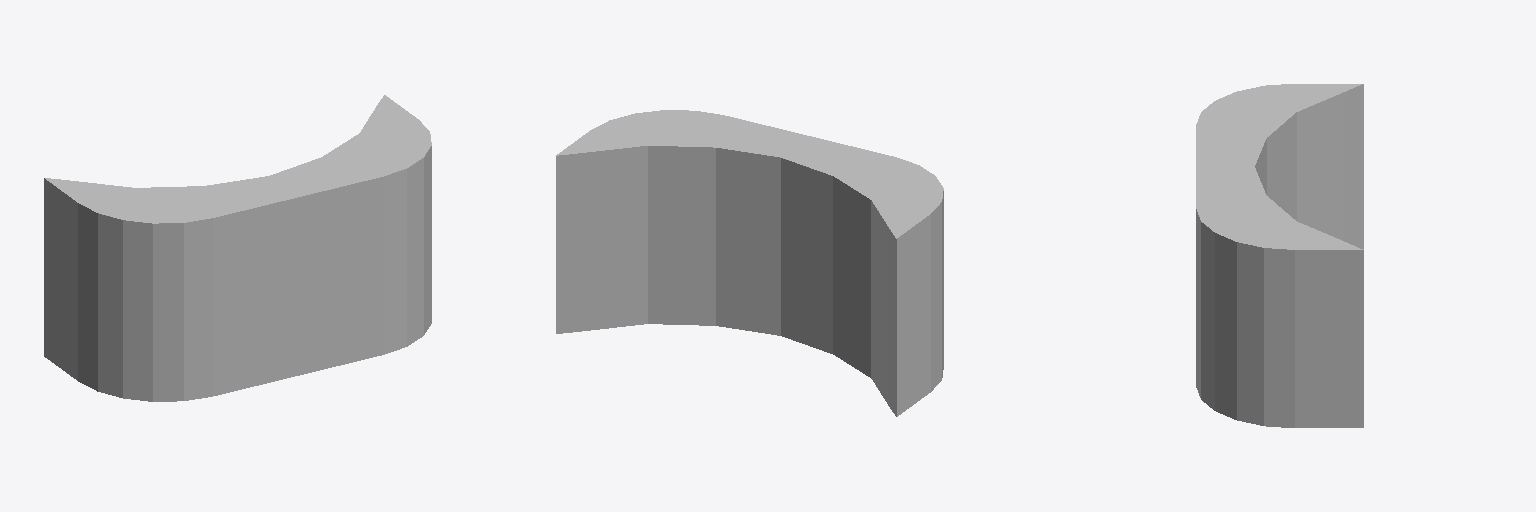
File: shieldparticle.obj
3 views of the same model, side by side, from view 1: azimuth 30°, elevation 25°; view 2: azimuth 150°, elevation 25°; view 3: azimuth 270°, elevation 25° (orthographic).
Bounding box in the file's own units: 3 × 1.5 × 1.28.